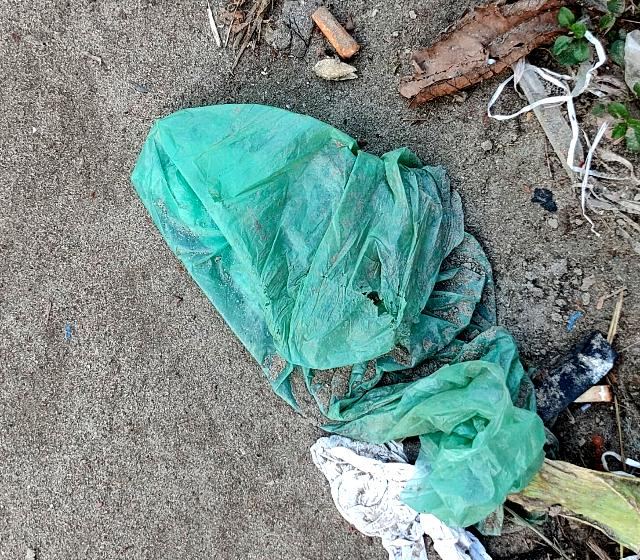polythene: (107, 36, 597, 550)
